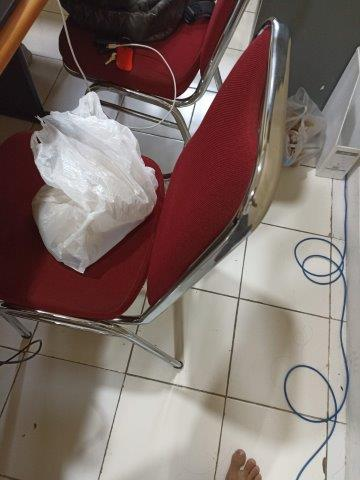plastik: (31, 91, 158, 275), (282, 88, 326, 168)
